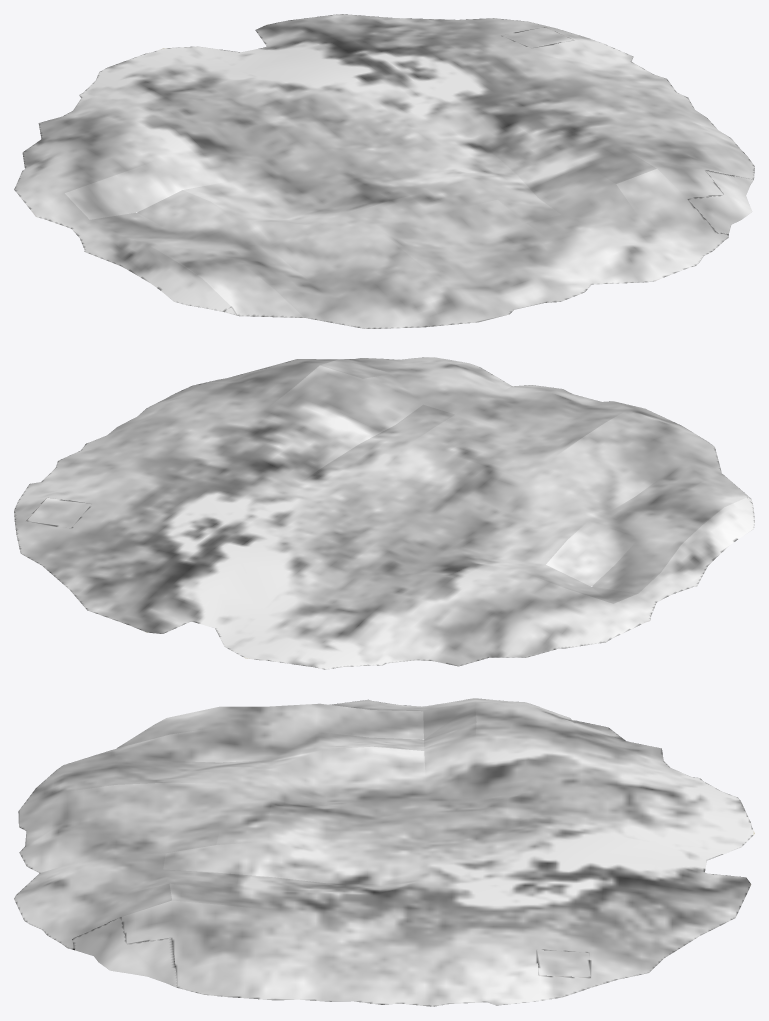
Rendered from nasi.fbx.
The picture shows the model from 3 angles, top to bottom: view 1: azimuth 30°, elevation 25°; view 2: azimuth 150°, elevation 25°; view 3: azimuth 270°, elevation 25°; orthographic projection. The views are drawn at different scales.
Visible parts, largest first — view 1: Ase.001_Baked.008; view 2: Ase.001_Baked.008; view 3: Ase.001_Baked.008.
Boxes of the visible parts, bbox=[...] form: Ase.001_Baked.008: bbox=[14, 14, 754, 328]; Ase.001_Baked.008: bbox=[14, 357, 754, 669]; Ase.001_Baked.008: bbox=[14, 698, 754, 1006].
Size of the model in its own units: 149 by 8.52 by 152.
